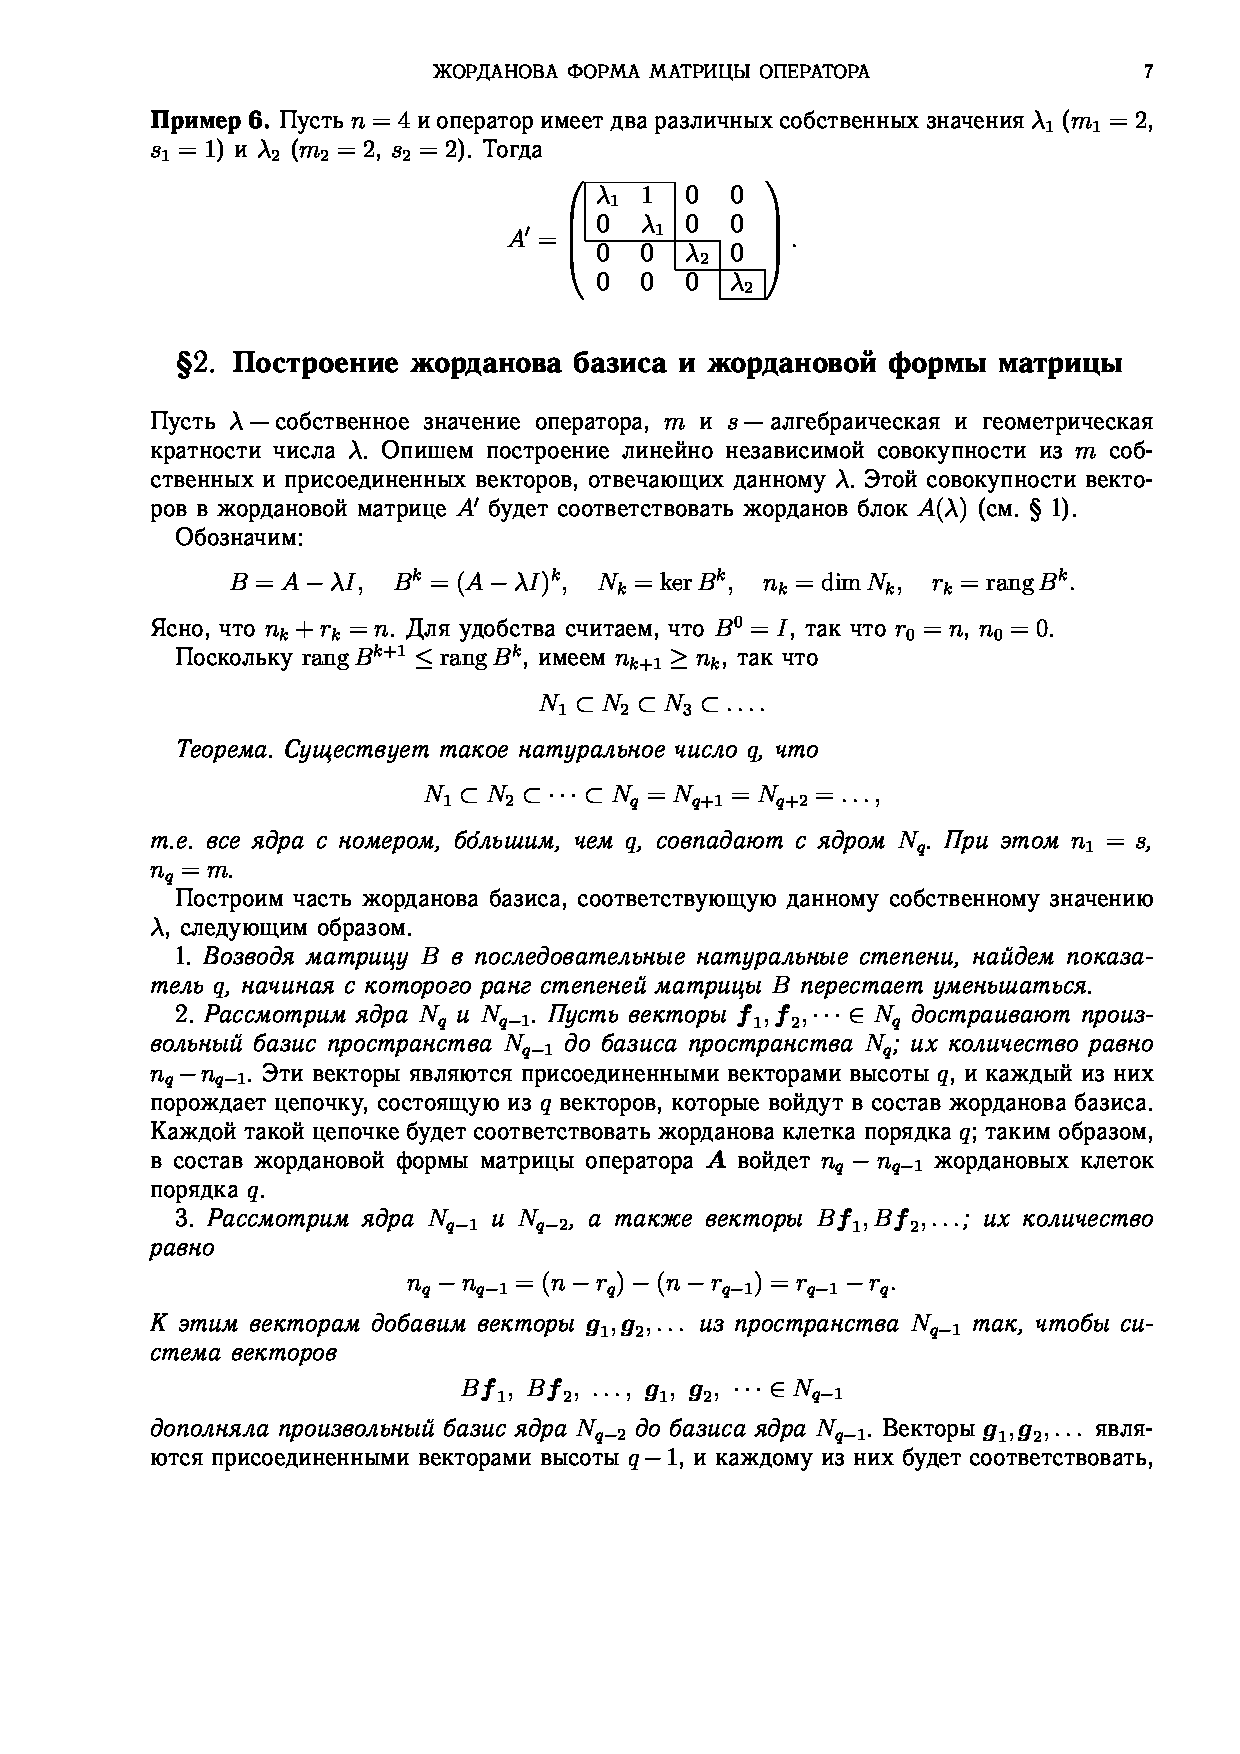pMatrix: (568, 176, 782, 307)
